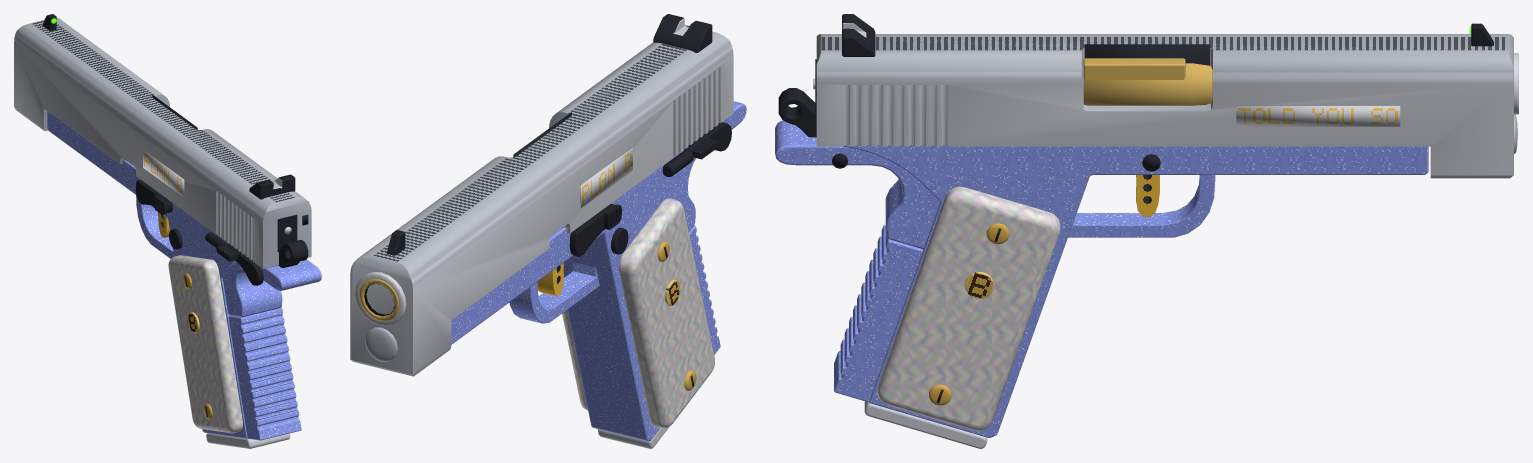
File: w_pistol.glb
3 views of the same model, side by side, from view 1: azimuth 30°, elevation 25°; view 2: azimuth 150°, elevation 25°; view 3: azimuth 270°, elevation 25° (orthographic). The views are drawn at different scales.
Visible parts, largest first — view 1: slide_wzB, pb_body_wzA, pb_body_wzN, mag_wzB, hammer_wzN; view 2: slide_wzB, pb_body_wzA, pb_body_wzN, pb_body_wzB, mag_wzB; view 3: slide_wzB, pb_body_wzA, pb_body_wzB, pb_body_wzN, mag_wzB, hammer_wzN.
Boxes of the visible parts, x1,y1,x2,y2 form: slide_wzB: (14, 14, 311, 268); pb_body_wzA: (47, 111, 321, 440); pb_body_wzN: (135, 179, 263, 419); mag_wzB: (206, 433, 290, 448); hammer_wzN: (278, 240, 308, 267); slide_wzB: (350, 14, 733, 376); pb_body_wzA: (451, 101, 746, 441); pb_body_wzN: (537, 122, 731, 390); pb_body_wzB: (359, 278, 399, 321); mag_wzB: (598, 427, 668, 448); slide_wzB: (813, 14, 1518, 178); pb_body_wzA: (775, 120, 1428, 437); pb_body_wzB: (1083, 58, 1212, 105); pb_body_wzN: (832, 153, 1160, 405); mag_wzB: (864, 401, 987, 448); hammer_wzN: (778, 88, 816, 137).
Bounding box in the file's own units: 0.0525 × 0.1998 × 0.3281.
Materials: 15 (6 with a texture image).
